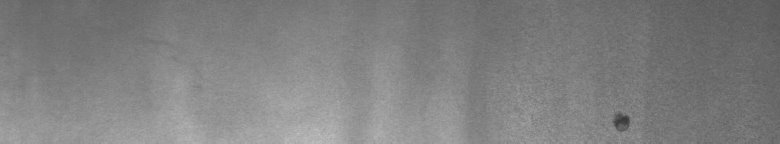fi: (604, 102, 639, 136)
